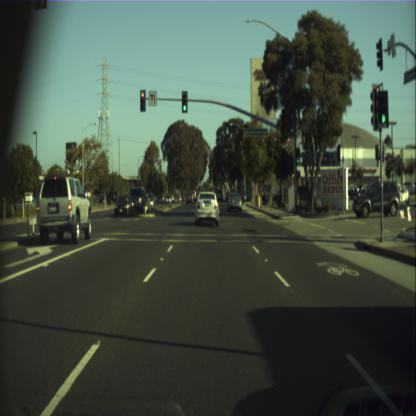Green: (377, 91, 388, 127), (182, 90, 187, 112), (296, 148, 300, 162)
RedLeft: (140, 90, 146, 112)
